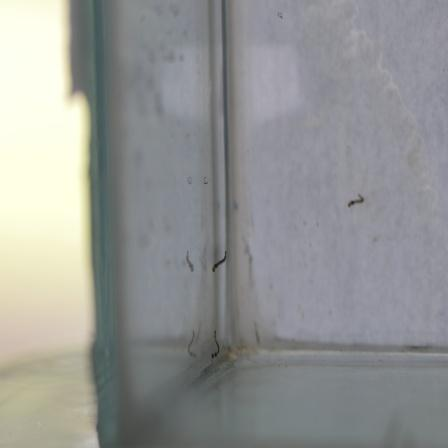Jentik-Nyamuk: (205, 328, 225, 361), (209, 248, 230, 274), (343, 190, 368, 211)
